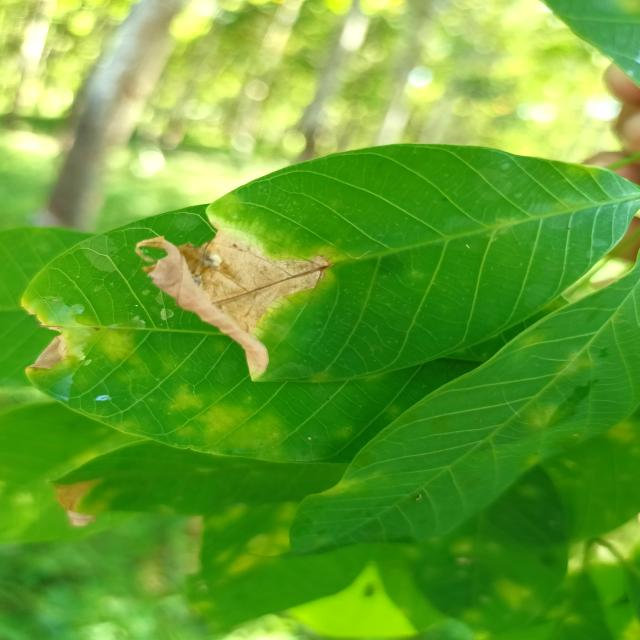Leaf-Blight: (136, 226, 332, 382), (52, 479, 96, 526), (31, 332, 68, 368)
